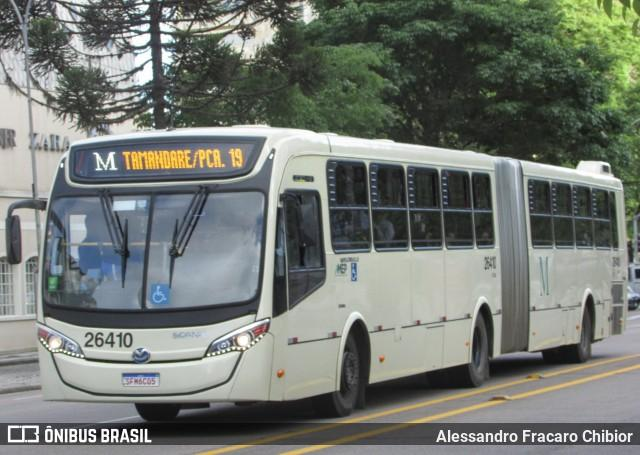TAMANDARE: (117, 147, 198, 173)
